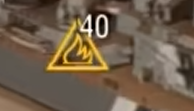1fire: (40, 40, 112, 73)
